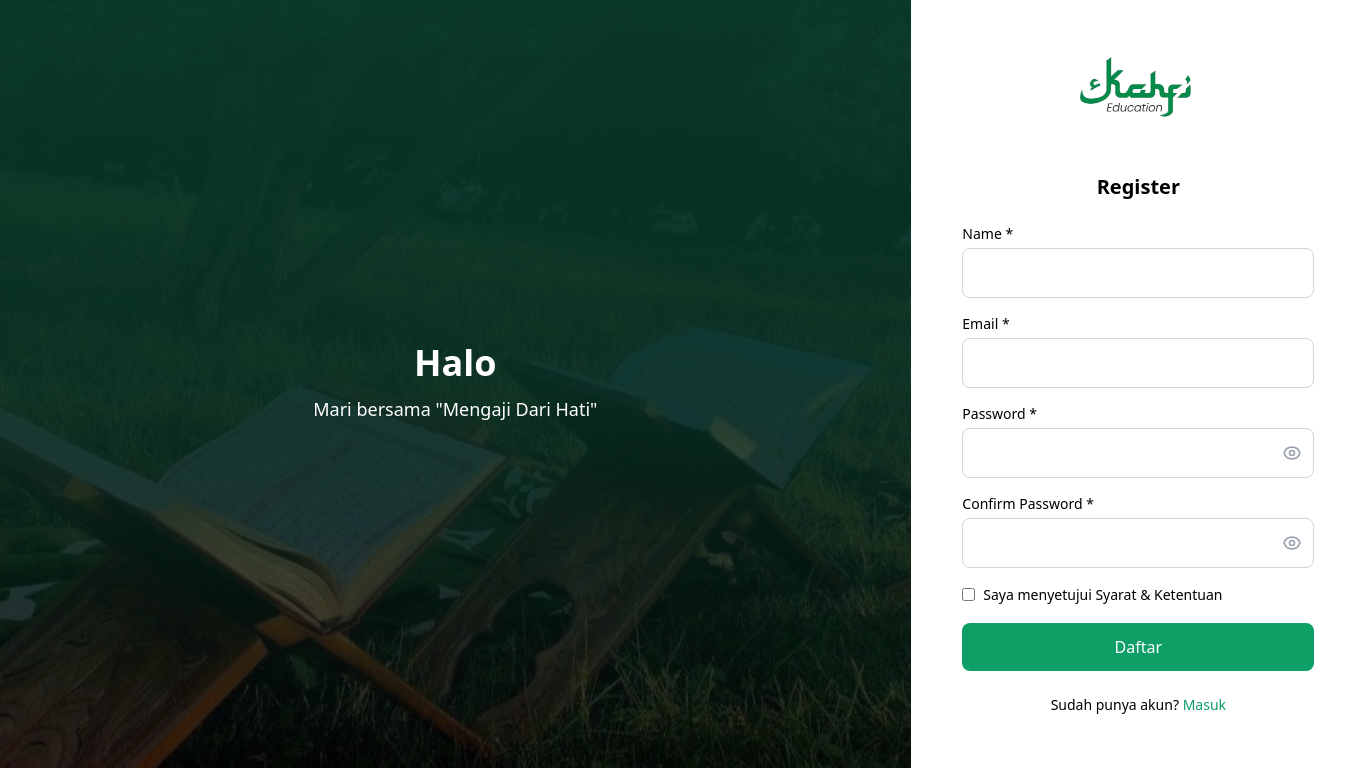
Register Feature Test › Validasi error ketika confirm password tidak cocok
This screenshot has width=1366, height=768.
In the field below "Name *": {"x": 1138, "y": 273} [962,248,1314,298], type "User"
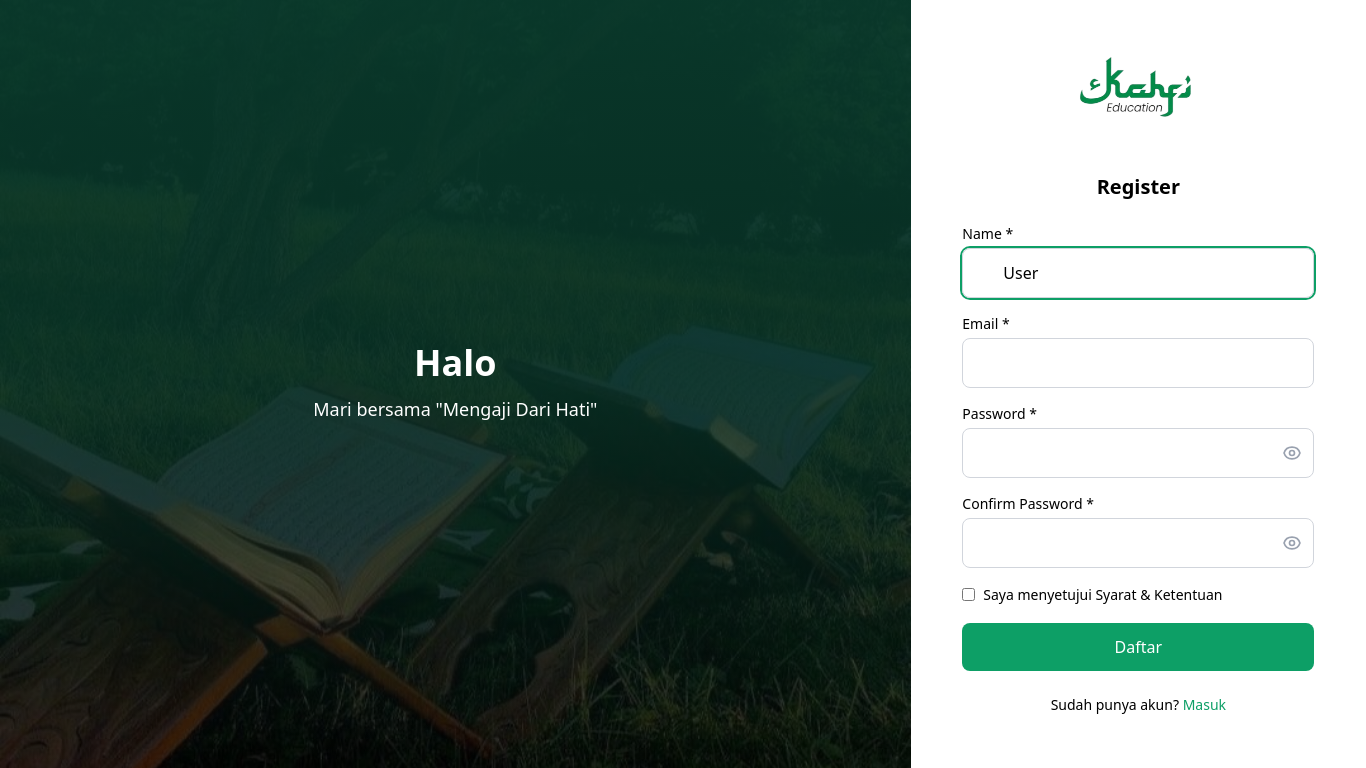
In the field below "Email *": {"x": 1138, "y": 363} [962,338,1314,388], type "user@example.com"
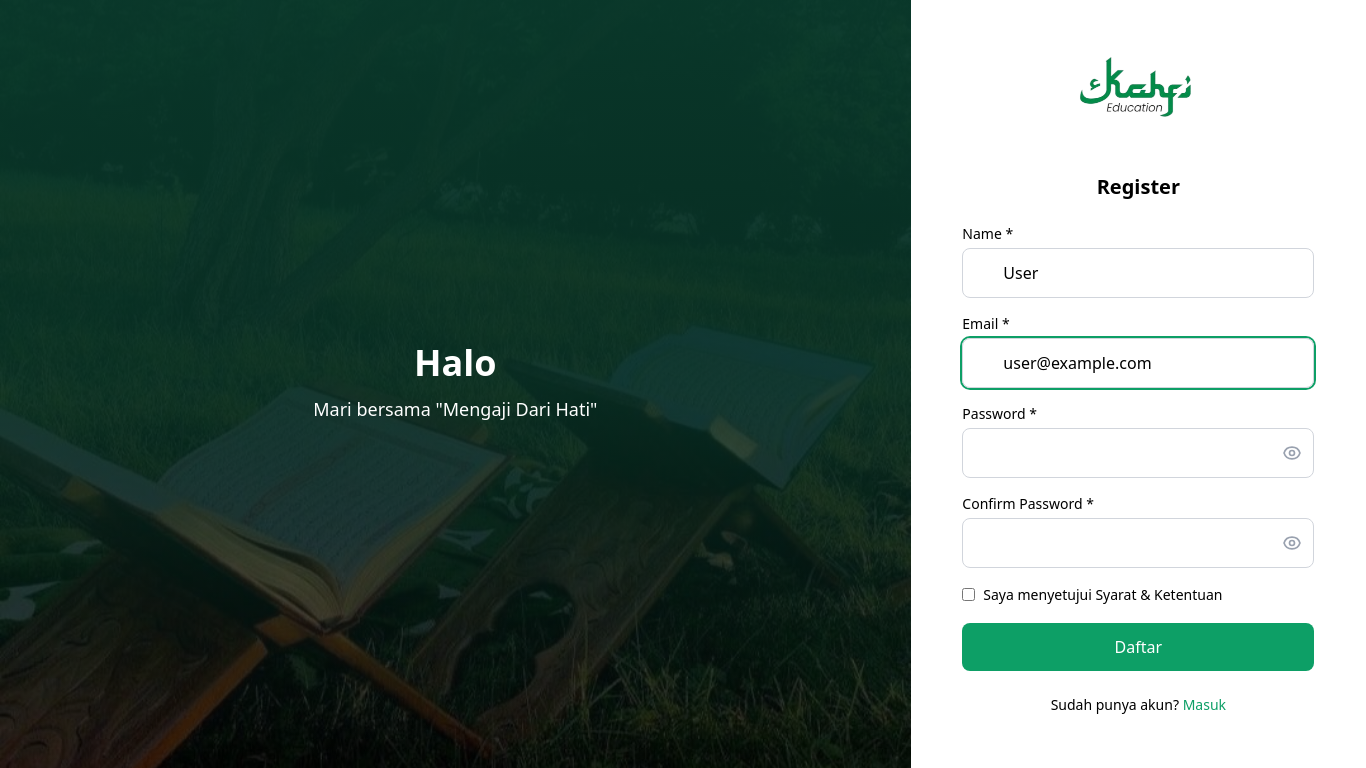
In the 1st password field: {"x": 1138, "y": 453} [962,428,1314,478], type "Abcdef1!"
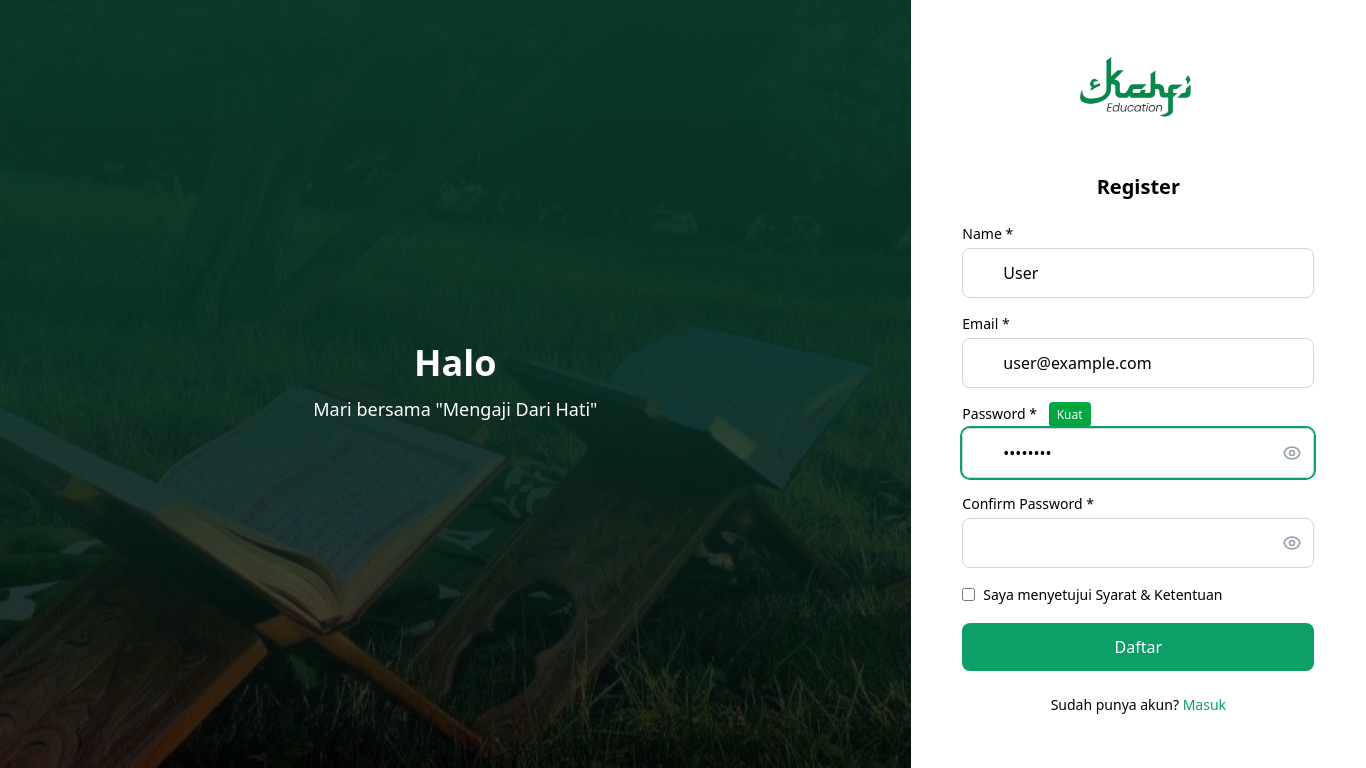
In the password field below "Confirm Password *": {"x": 1138, "y": 543} [962,518,1314,568], type "beda123!"
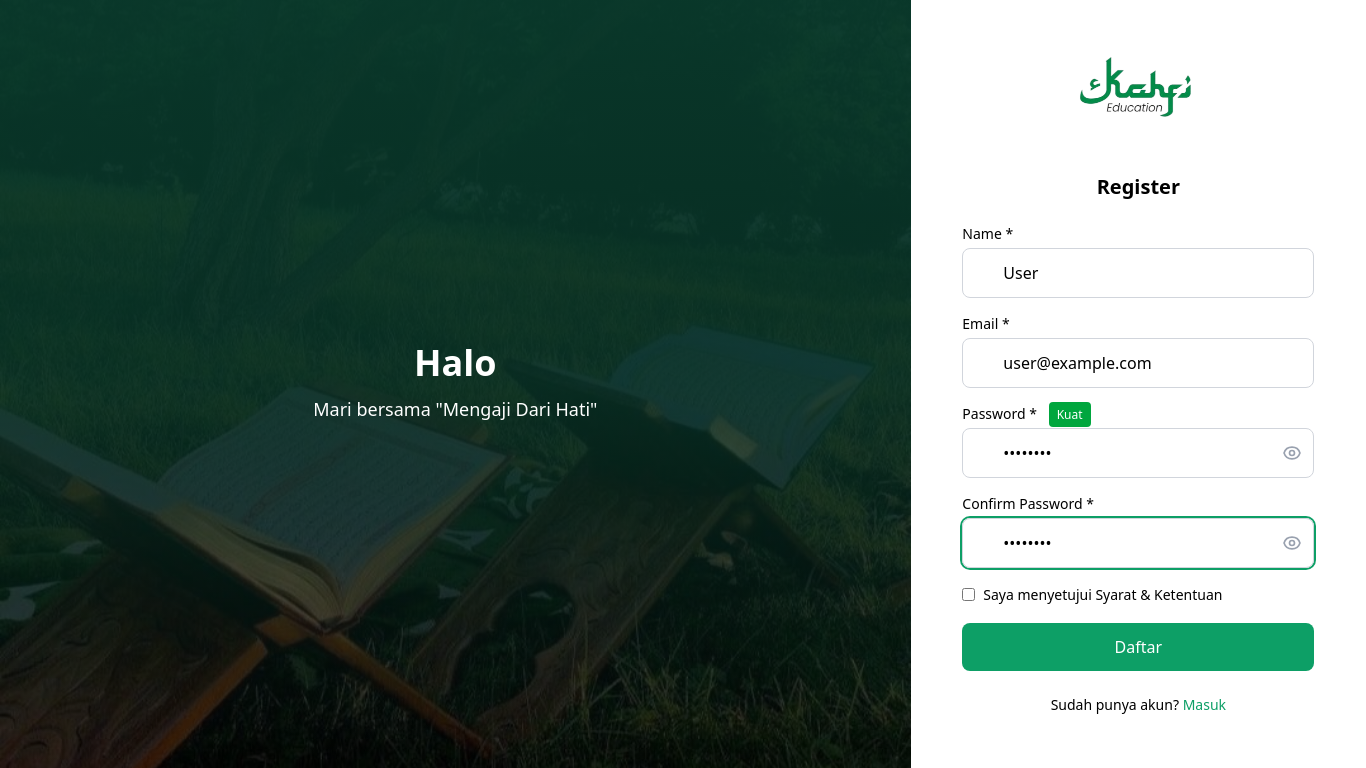
Check the checkbox named "agree": {"x": 969, "y": 595} [962,588,975,601]
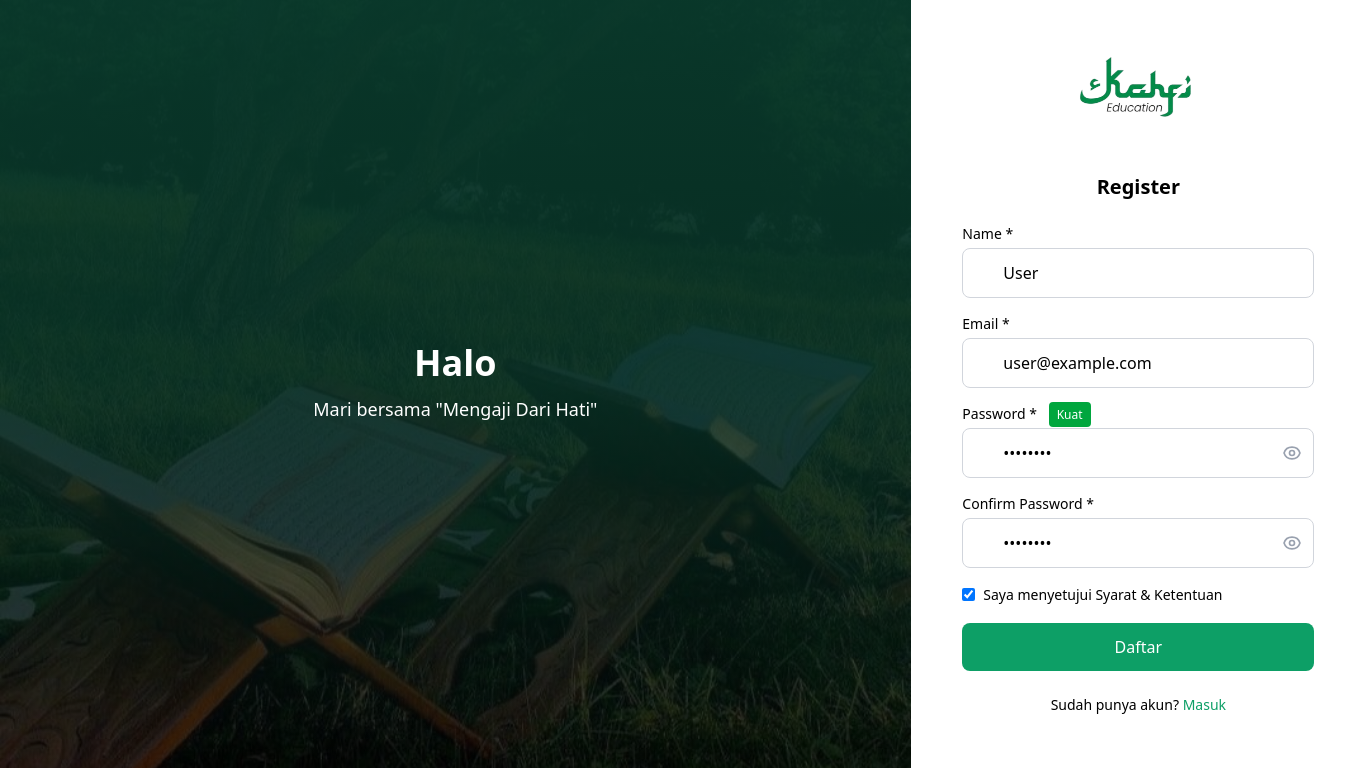
Expected: the submit button is enabled
Click the submit button: {"x": 1138, "y": 647} [962,623,1314,671]
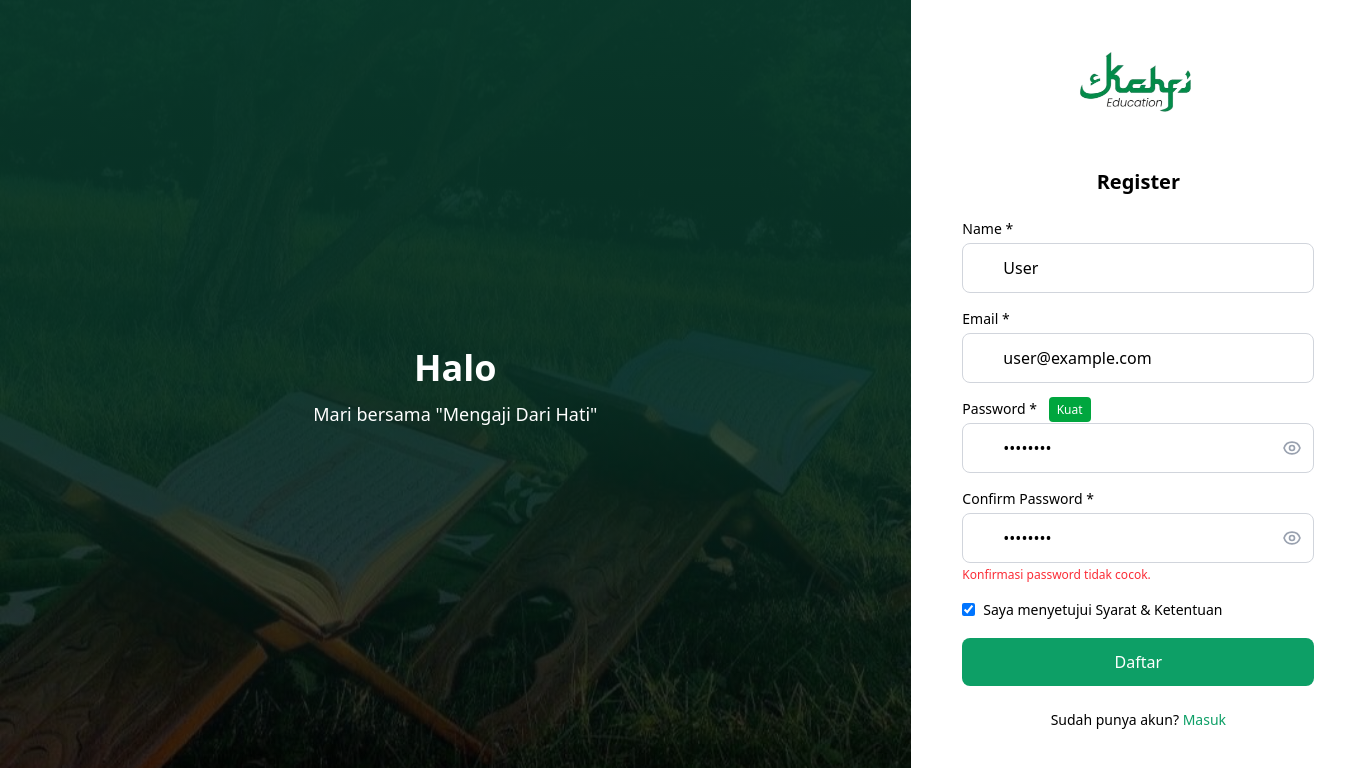
Expected: the text "Konfirmasi password tidak cocok." is shown, [962,566,1151,583]
